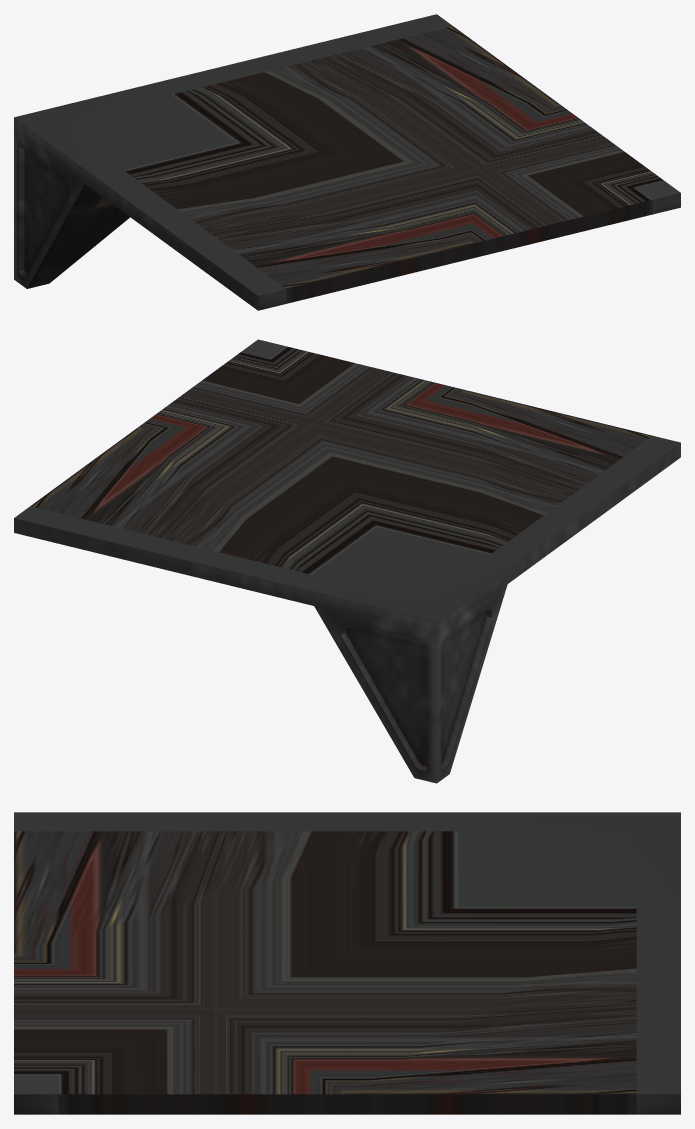
The model's file is Ceiling_05.FBX.
3 views of the same model, one above another, from view 1: azimuth 30°, elevation 25°; view 2: azimuth 150°, elevation 25°; view 3: azimuth 270°, elevation 25° (orthographic). The views are drawn at different scales.
Parts seen in each view (by area): view 1: Ceiling_05; view 2: Ceiling_05; view 3: Ceiling_05.
Part boxes in pixels (left/top/right/bottom): Ceiling_05: left=14, top=14, right=680, bottom=310; Ceiling_05: left=14, top=339, right=680, bottom=783; Ceiling_05: left=14, top=812, right=680, bottom=1114.
Bounding box in the file's own units: 300 × 110 × 300.
